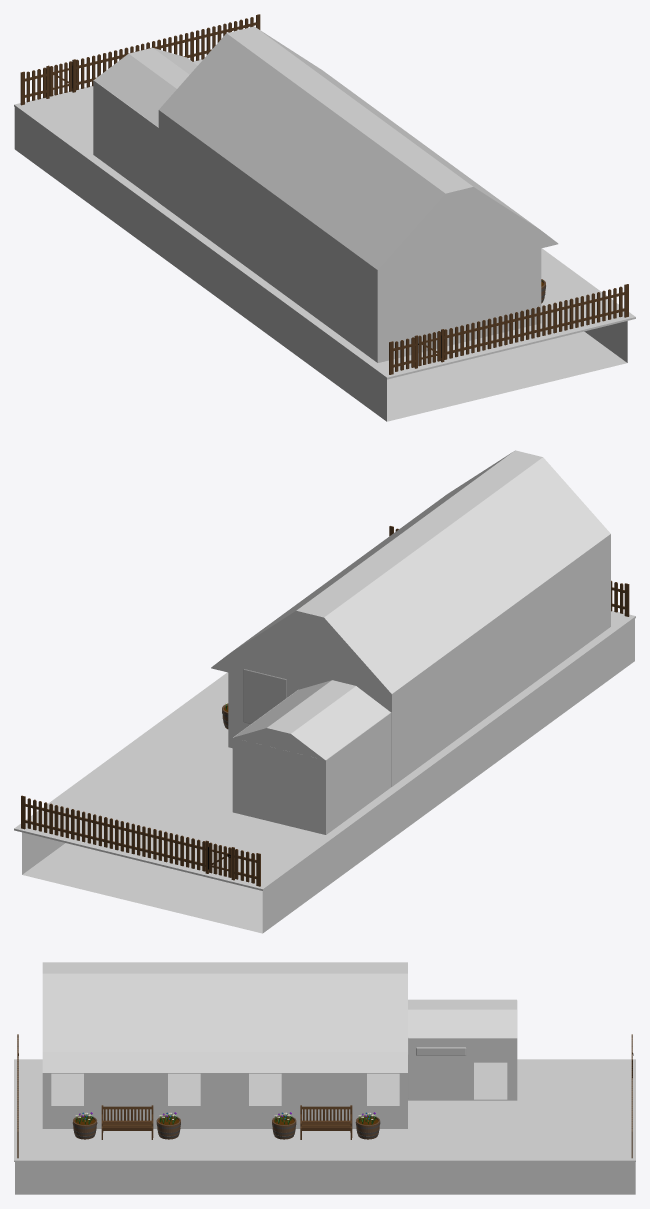
Rendered from StationTest3.fbx.
3 views of the same model, one above another, from view 1: azimuth 30°, elevation 25°; view 2: azimuth 150°, elevation 25°; view 3: azimuth 270°, elevation 25° (orthographic). The views are drawn at different scales.
Parts seen in each view (by area): view 1: Cube.003, Cube, Plane.178, Cube.004, Cube.006, Plane.225; view 2: Cube.003, Plane.178, Cube, Cube.004, Cube.006, Cube.008; view 3: Cube.003, Plane.178, Cube, Cube.005, Cube.004, Cube.006, Plane.009, Plane.290, Cube.007, Main.003, Main.002, Main (+1 smaller).
Boxes of the visible parts, <box> form: Cube.003: <box>158,26,541,362</box>; Cube: <box>14,107,627,421</box>; Plane.178: <box>14,59,635,379</box>; Cube.004: <box>93,58,197,202</box>; Cube.006: <box>94,47,197,126</box>; Plane.225: <box>393,292,627,350</box>; Cube.003: <box>228,450,610,786</box>; Plane.178: <box>14,610,635,890</box>; Cube: <box>22,619,634,933</box>; Cube.004: <box>232,690,391,834</box>; Cube.006: <box>233,680,390,760</box>; Cube.008: <box>243,669,286,723</box>; Cube.003: <box>42,962,407,1128</box>; Plane.178: <box>14,1059,635,1161</box>; Cube: <box>15,1162,635,1194</box>; Cube.005: <box>42,1051,407,1073</box>; Cube.004: <box>408,1000,517,1100</box>; Cube.006: <box>408,999,516,1038</box>; Plane.009: <box>101,1105,153,1139</box>; Plane.290: <box>300,1105,352,1139</box>; Cube.007: <box>416,1047,466,1055</box>; Main.003: <box>272,1115,296,1139</box>; Main.002: <box>355,1115,380,1139</box>; Main: <box>156,1115,180,1139</box>.
Bounding box in the file's own units: 2883 × 2188 × 7487.
